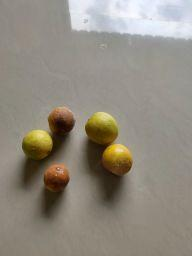lemon: (84, 113, 119, 145), (101, 144, 134, 174), (22, 130, 54, 160), (47, 108, 75, 136), (43, 165, 71, 191)
